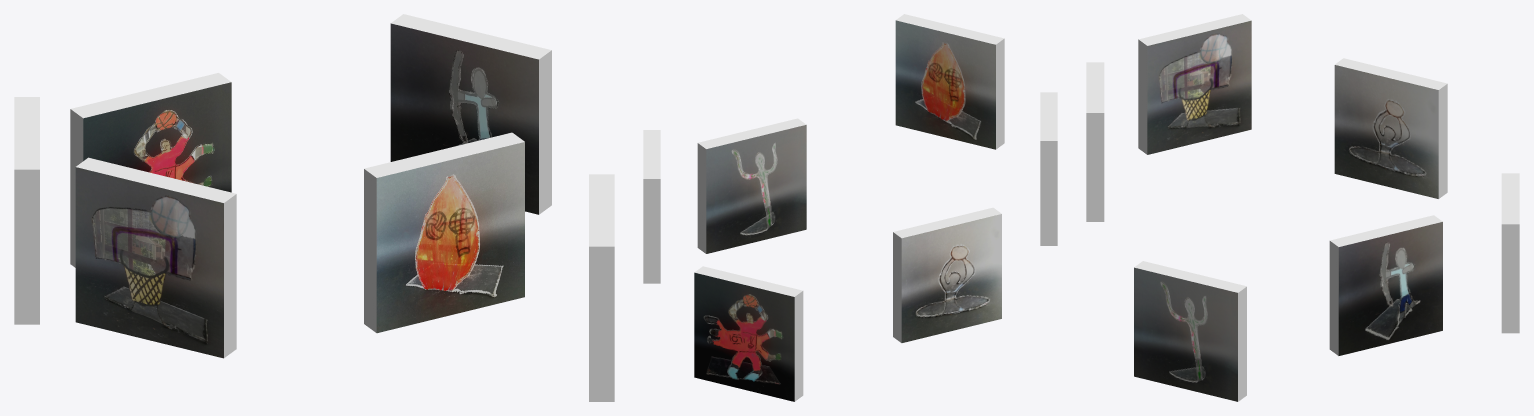
Rendered from 6_square.obj.
The picture shows the model from 3 angles, left to right: view 1: azimuth 30°, elevation 25°; view 2: azimuth 150°, elevation 25°; view 3: azimuth 270°, elevation 25°; orthographic projection. The views are drawn at different scales.
Parts seen in each view (by area): view 1: Cube_5, Cube_4, Cube_2, Cube_1, Cube_3, Cube_6; view 2: Cube_1, Cube_4, Cube_3, Cube_6, Cube_2, Cube_5; view 3: Cube_5, Cube_6, Cube_2, Cube_3, Cube_1, Cube_4.
Boxes of the visible parts, left/top/right/bottom form: Cube_5: left=75, top=157, right=236, bottom=358; Cube_4: left=364, top=132, right=524, bottom=333; Cube_2: left=390, top=14, right=551, bottom=214; Cube_1: left=70, top=73, right=231, bottom=267; Cube_3: left=589, top=174, right=614, bottom=401; Cube_6: left=14, top=97, right=39, bottom=324; Cube_1: left=694, top=266, right=803, bottom=401; Cube_4: left=895, top=14, right=1004, bottom=149; Cube_3: left=697, top=118, right=806, bottom=253; Cube_6: left=893, top=207, right=1001, bottom=342; Cube_2: left=643, top=130, right=660, bottom=283; Cube_5: left=1040, top=92, right=1057, bottom=245; Cube_5: left=1138, top=14, right=1251, bottom=154; Cube_6: left=1334, top=58, right=1447, bottom=198; Cube_2: left=1329, top=215, right=1442, bottom=355; Cube_3: left=1134, top=261, right=1246, bottom=401; Cube_1: left=1501, top=173, right=1519, bottom=333; Cube_4: left=1086, top=62, right=1104, bottom=221.
Bounding box in the file's own units: 1102 × 609 × 1080.
Materials: 7 (6 with a texture image).
